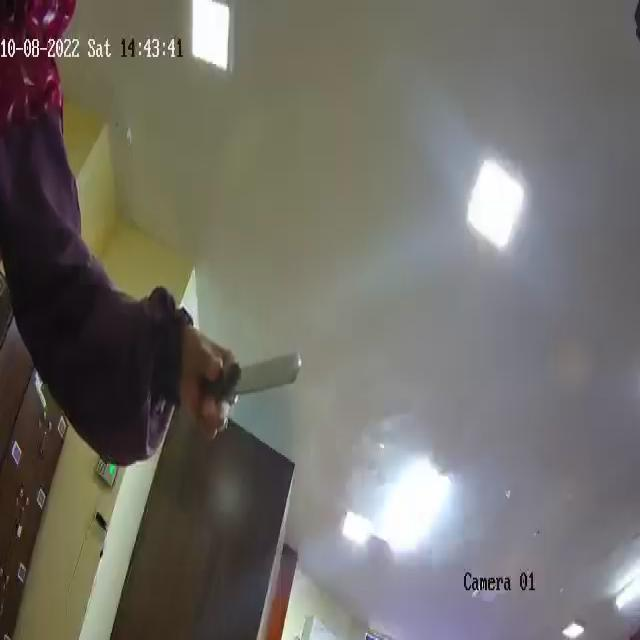Knife: (190, 345, 311, 412)
